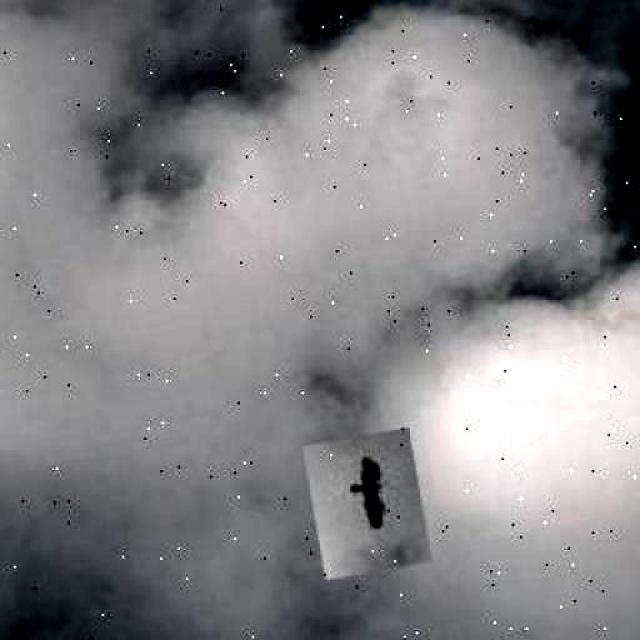airplane: (301, 428, 431, 579)
